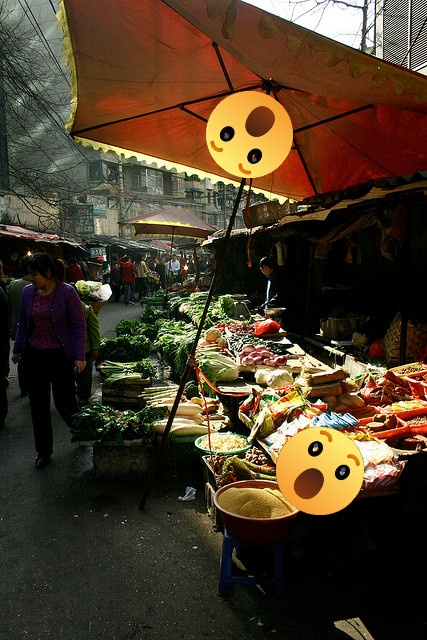wow: (276, 427, 364, 515), (206, 91, 293, 178)
